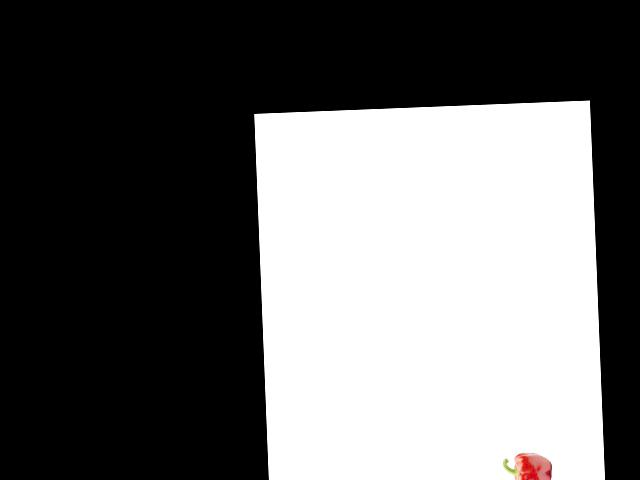bell_pepper: (501, 448, 555, 480)
